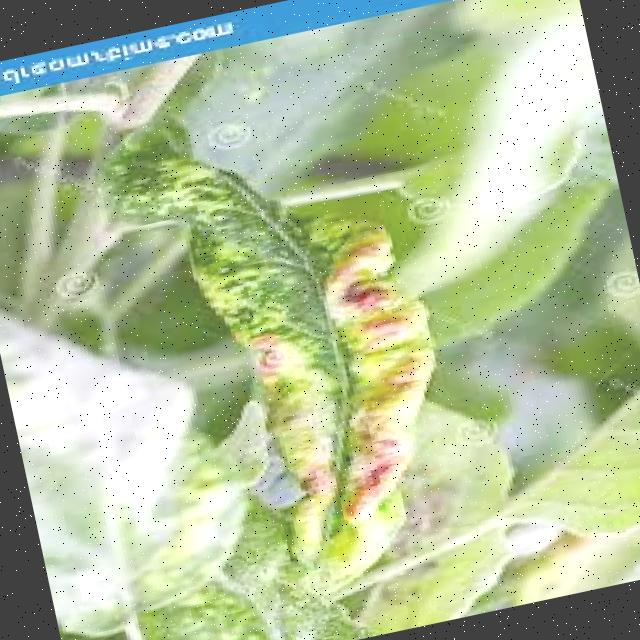leaf curl: (159, 113, 486, 640)
